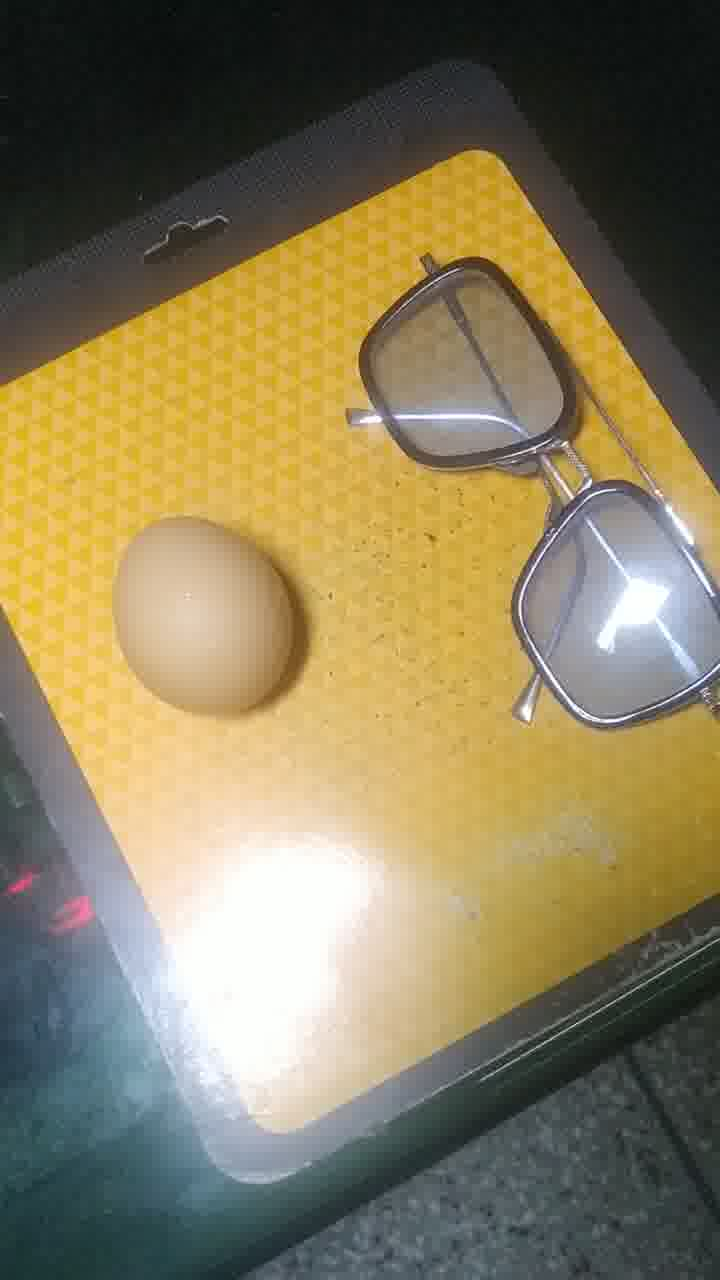egg: (106, 510, 314, 721)
sunglass: (348, 247, 720, 746)
